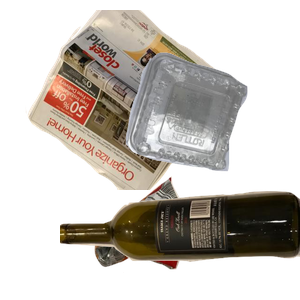glass: (60, 189, 300, 300)
paper: (23, 10, 245, 190)
plastic: (123, 50, 300, 214)
trash: (92, 174, 272, 300)
